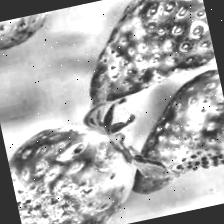Powdery Mildew Fruit: (3, 111, 148, 224), (69, 0, 219, 104), (109, 67, 224, 197)
